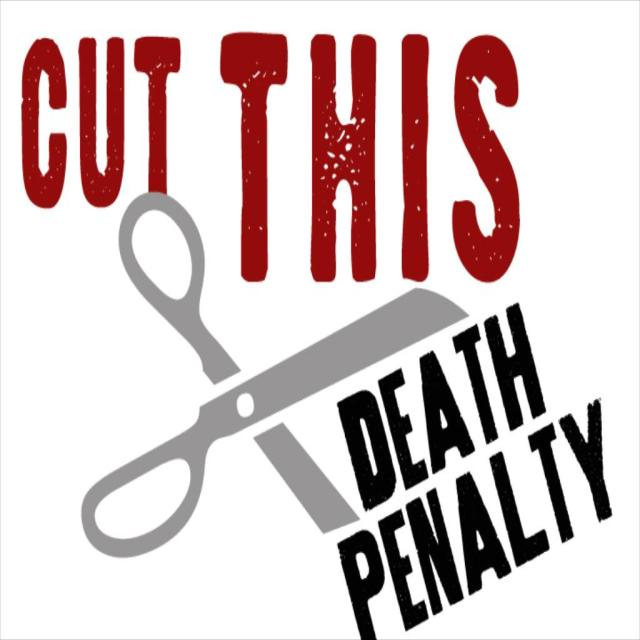scissors: (80, 190, 469, 557)
